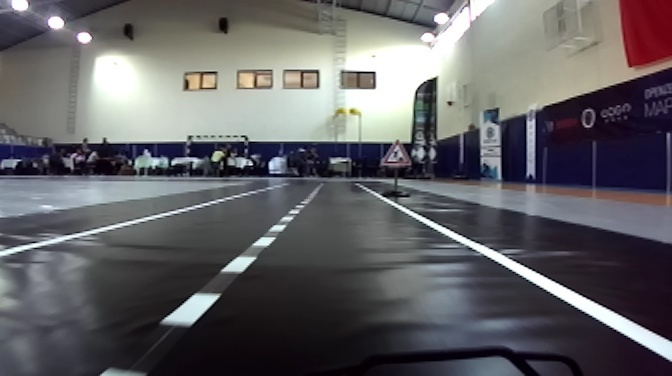yol_yapimi: (377, 139, 413, 167)
